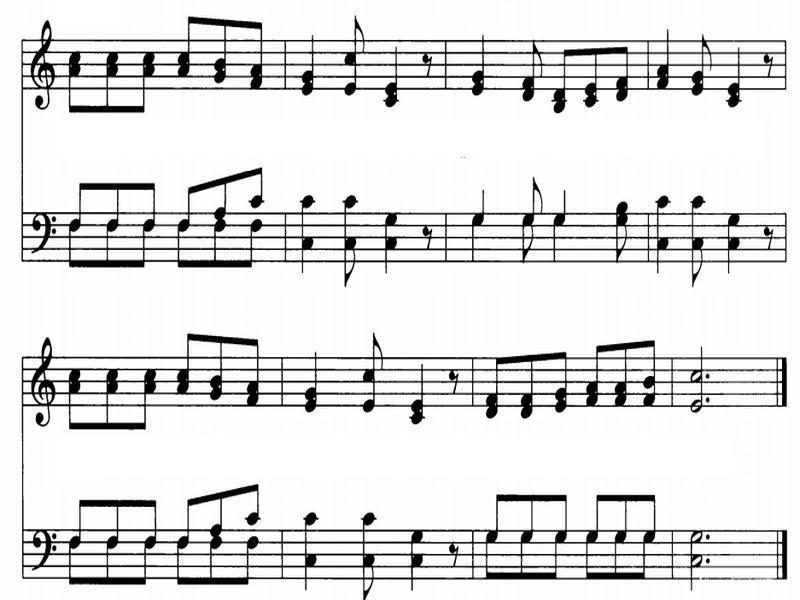B: (681, 519, 705, 597), (687, 344, 704, 385), (685, 385, 704, 414), (685, 525, 701, 554), (687, 554, 698, 591)
C: (358, 316, 397, 418), (337, 9, 374, 105), (347, 504, 381, 598), (169, 1, 204, 76), (551, 31, 580, 116), (240, 1, 267, 91), (240, 322, 267, 410), (686, 189, 710, 287), (608, 188, 636, 269), (515, 34, 547, 104), (209, 15, 240, 86), (63, 40, 91, 117), (93, 31, 118, 117), (640, 322, 663, 413), (131, 44, 157, 122), (690, 26, 717, 100), (171, 328, 201, 394), (549, 334, 573, 416), (203, 334, 232, 401), (582, 337, 607, 412), (583, 40, 609, 111), (480, 351, 508, 415), (133, 363, 160, 429), (237, 215, 267, 274), (614, 331, 636, 411), (104, 489, 133, 548), (105, 180, 138, 231), (68, 493, 97, 551), (553, 483, 577, 551), (94, 216, 123, 271), (177, 175, 204, 234), (137, 174, 164, 231), (336, 234, 368, 282), (483, 480, 507, 544), (207, 218, 237, 269), (66, 179, 94, 232), (481, 525, 506, 584), (612, 32, 632, 104), (237, 533, 264, 584), (173, 220, 199, 272), (583, 490, 609, 542), (520, 477, 539, 547), (614, 492, 640, 543), (637, 530, 663, 581), (131, 219, 158, 268), (134, 534, 158, 588), (544, 528, 565, 586), (208, 487, 232, 537), (68, 364, 86, 430), (520, 347, 536, 421), (208, 537, 229, 592), (99, 365, 117, 428), (138, 489, 157, 548), (249, 159, 270, 212), (216, 168, 237, 220), (645, 485, 662, 548), (523, 177, 544, 226), (579, 533, 600, 579), (178, 495, 195, 551), (64, 541, 85, 584), (517, 216, 536, 263), (245, 478, 264, 525), (515, 524, 531, 579), (176, 535, 193, 586), (101, 536, 119, 584), (608, 536, 628, 579), (68, 216, 82, 269)
CF: (24, 516, 61, 574), (29, 195, 59, 261)
CS: (27, 315, 61, 442), (26, 10, 61, 119)
N: (291, 174, 322, 287), (296, 4, 328, 100), (374, 36, 411, 117), (298, 334, 335, 413), (467, 14, 493, 103), (404, 510, 430, 597), (725, 200, 751, 279), (407, 361, 438, 426), (302, 500, 321, 591), (727, 34, 749, 112), (653, 24, 677, 95), (457, 214, 489, 264), (376, 207, 397, 274), (544, 213, 570, 265), (469, 176, 491, 232), (337, 188, 362, 234), (554, 178, 576, 229), (297, 184, 319, 228), (300, 231, 317, 279), (301, 552, 321, 591), (301, 510, 321, 545), (360, 507, 377, 548)
P: (704, 528, 716, 547), (702, 393, 715, 407), (703, 555, 717, 568), (706, 368, 717, 381)
SN: (417, 210, 439, 254), (447, 538, 465, 571), (443, 365, 462, 396), (762, 220, 777, 254), (759, 52, 777, 80), (417, 50, 435, 75)
